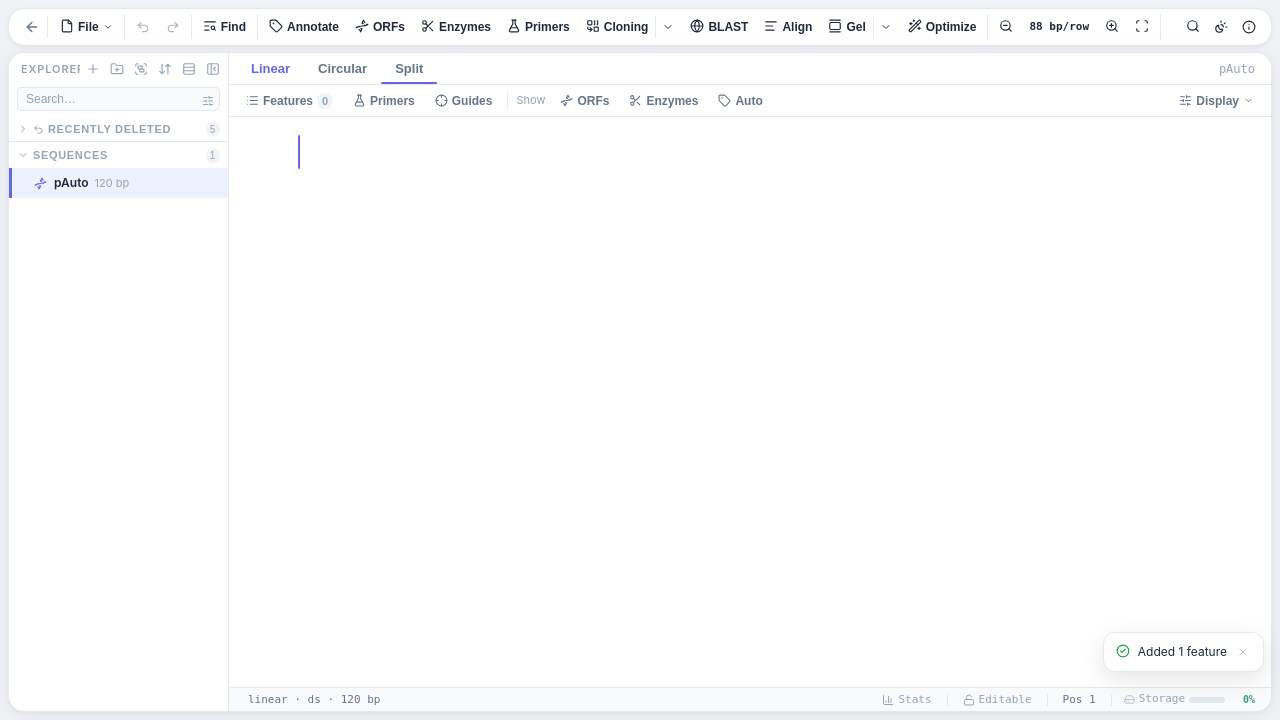
Test: auto-annotation in the panel bar › does not suggest a converted feature again
The image size is (1280, 720).
Click the button "Auto" at (741, 100), box left=709, top=90, right=772, bottom=112
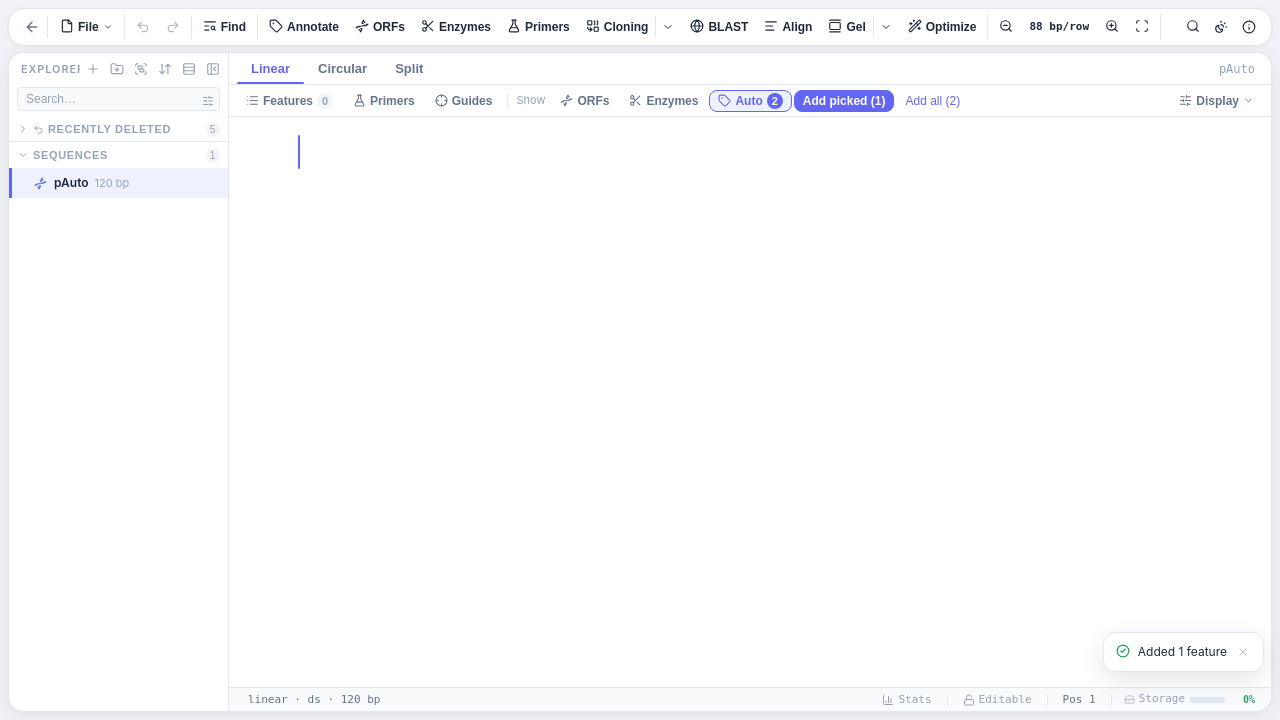
Click the button "Add picked (1)" at (844, 100), box left=794, top=90, right=894, bottom=112
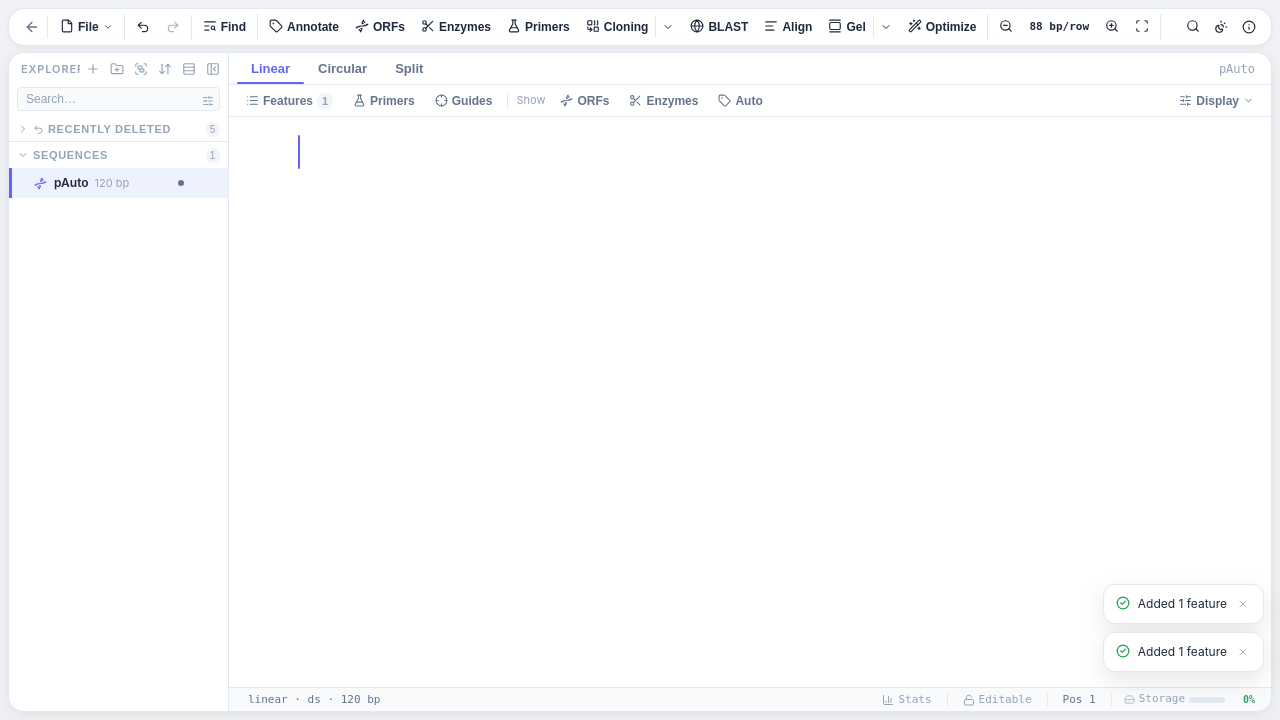
Click the button "Auto" at (741, 100), box left=709, top=90, right=772, bottom=112
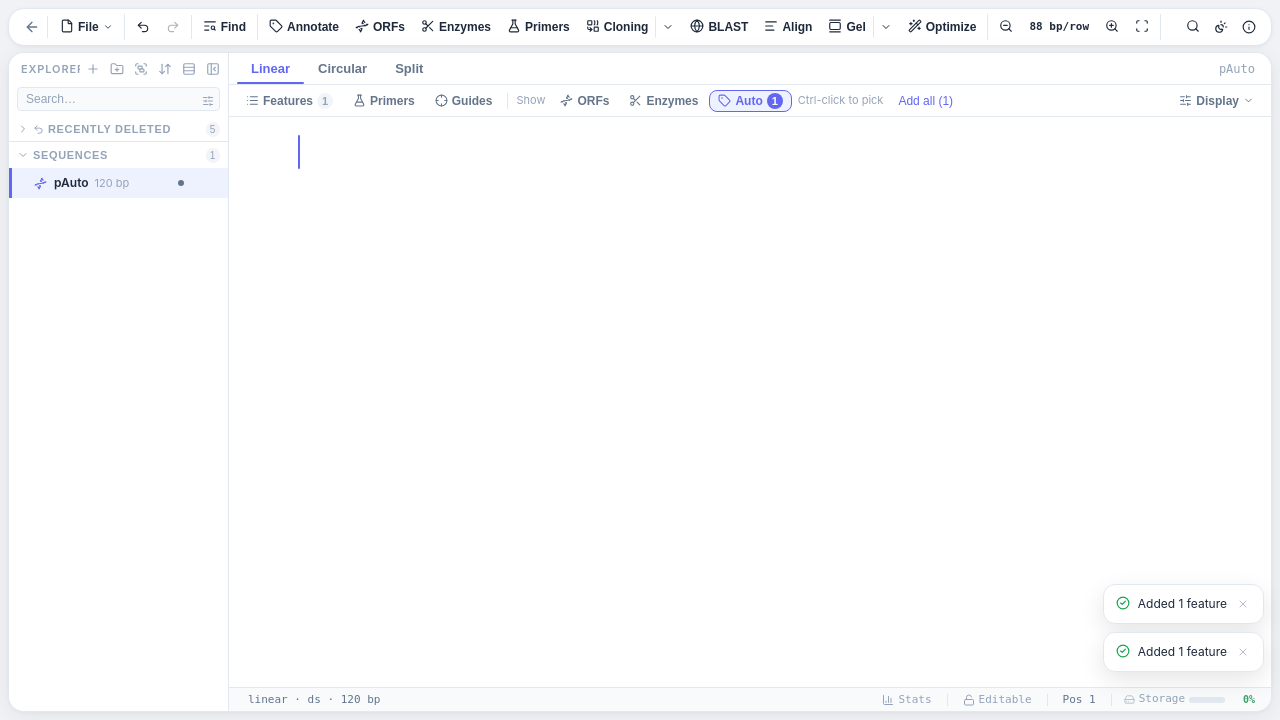
Now the button "Add all (1)" is shown, box left=889, top=90, right=962, bottom=112
